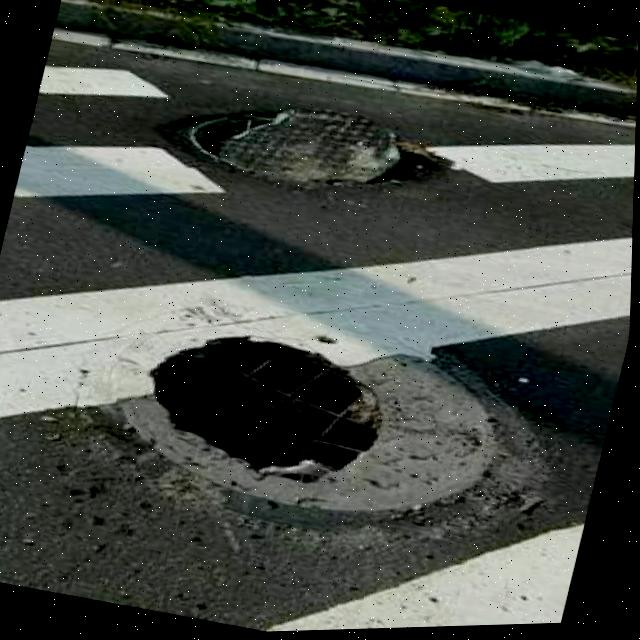manhole: (56, 259, 570, 569), (162, 75, 471, 221)
